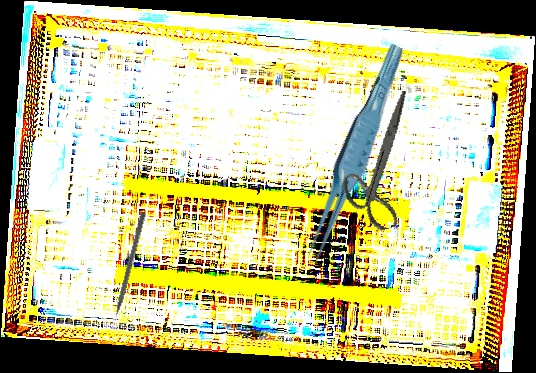Iris Scissors: (321, 90, 444, 238)
Pusher: (108, 211, 147, 330)
Tissue Forceps: (287, 42, 421, 268)
